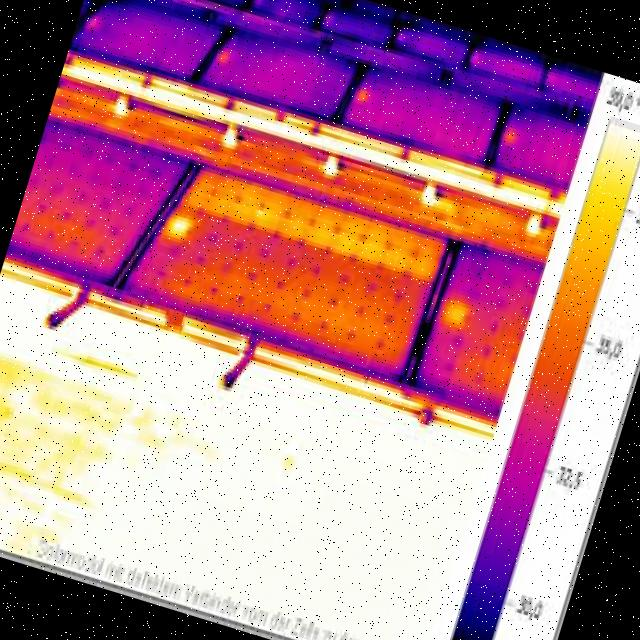Hotspot: (177, 156, 456, 289), (153, 201, 210, 258), (434, 282, 482, 338)
